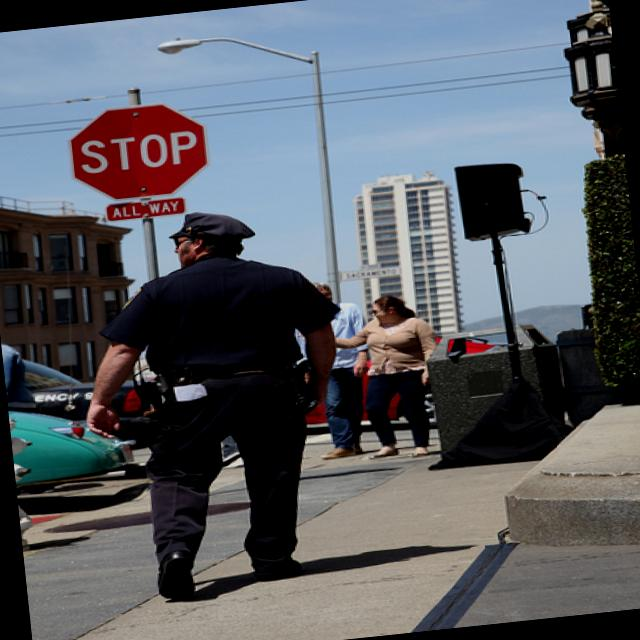Vehicle: (297, 338, 503, 442), (7, 391, 130, 485), (18, 350, 108, 420)
